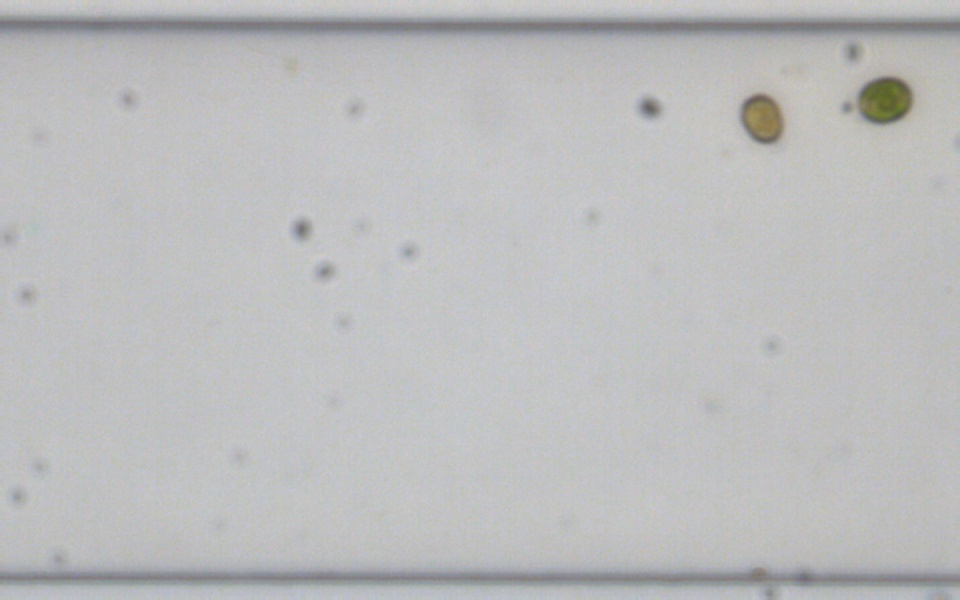Effrenium: (736, 90, 784, 145)
Platymonas: (853, 72, 915, 126)
